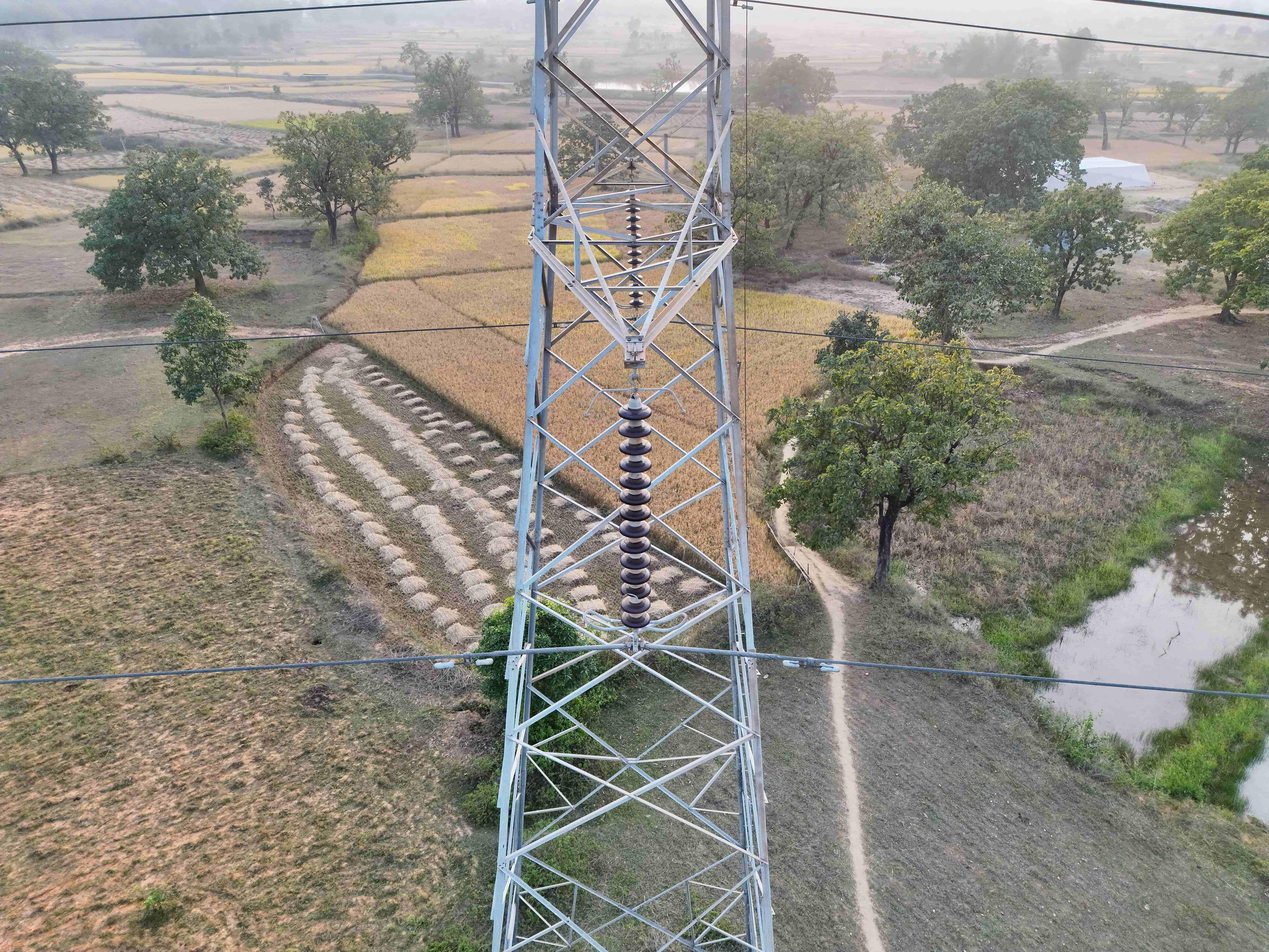broken_insulator: (619, 584, 654, 602)
